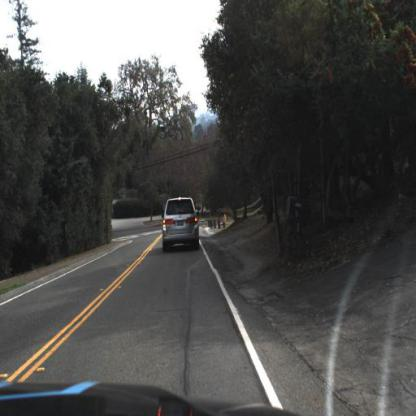car: (161, 195, 201, 256)
